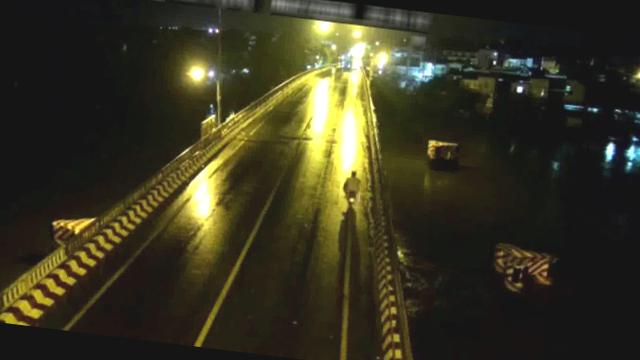Bike: (337, 166, 362, 205)
